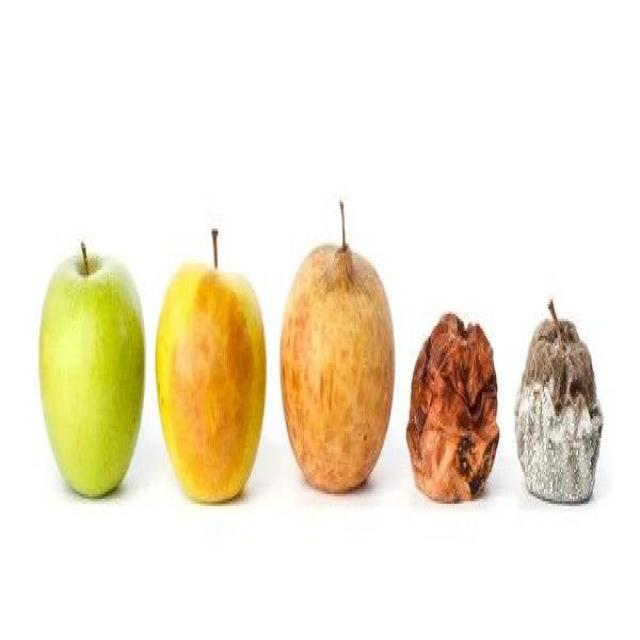fresh_apple: (40, 253, 147, 492)
rotten_apple: (282, 243, 393, 494), (156, 258, 263, 504), (408, 294, 499, 496), (514, 306, 603, 502)
